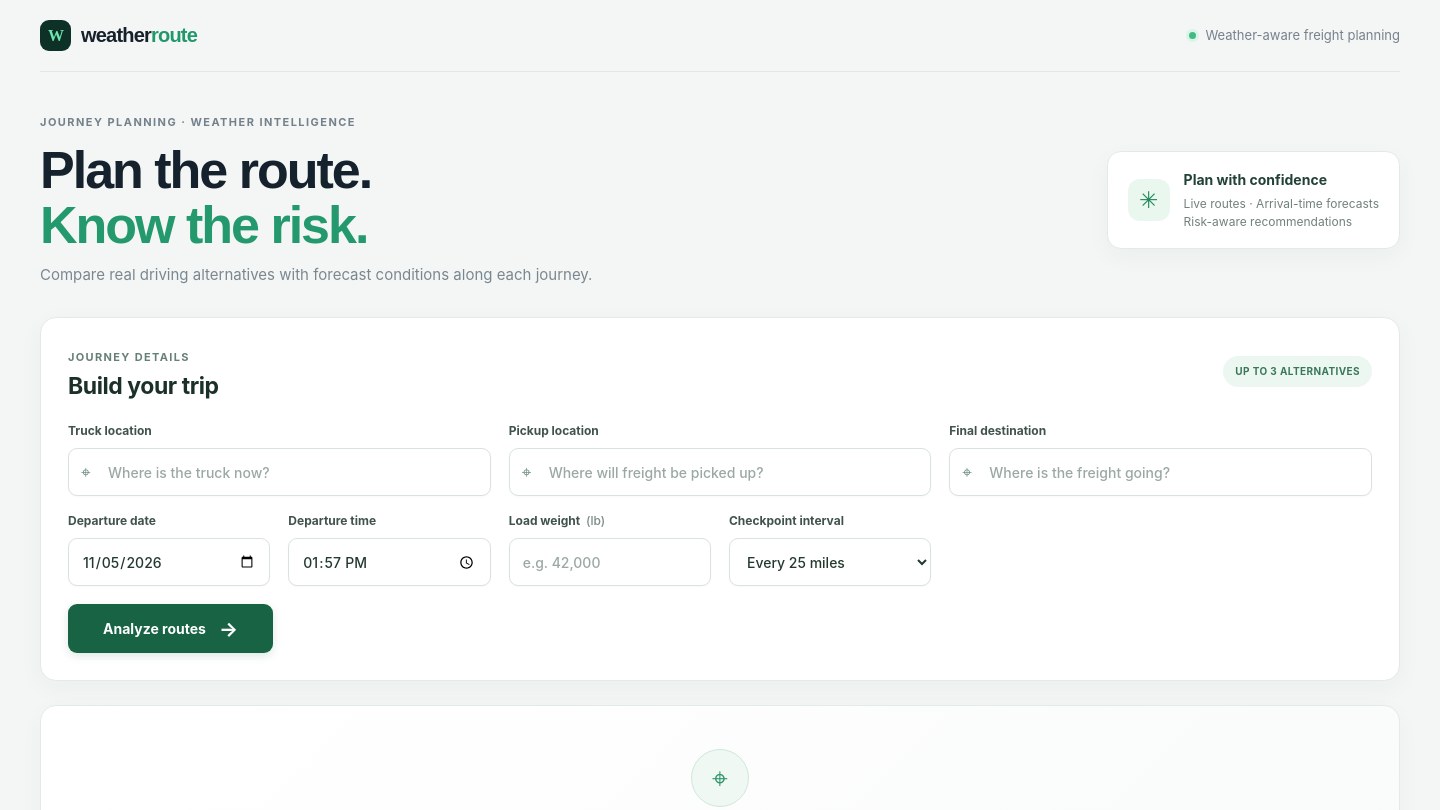
Test case: journey dashboard integration › reports backend errors without leaving a loading state
The width and height of the screenshot is (1440, 810).
Type "New York, NY" into the field labelled "Truck location".
click(279, 472); type("New York, NY")  # box [68,448,491,496]
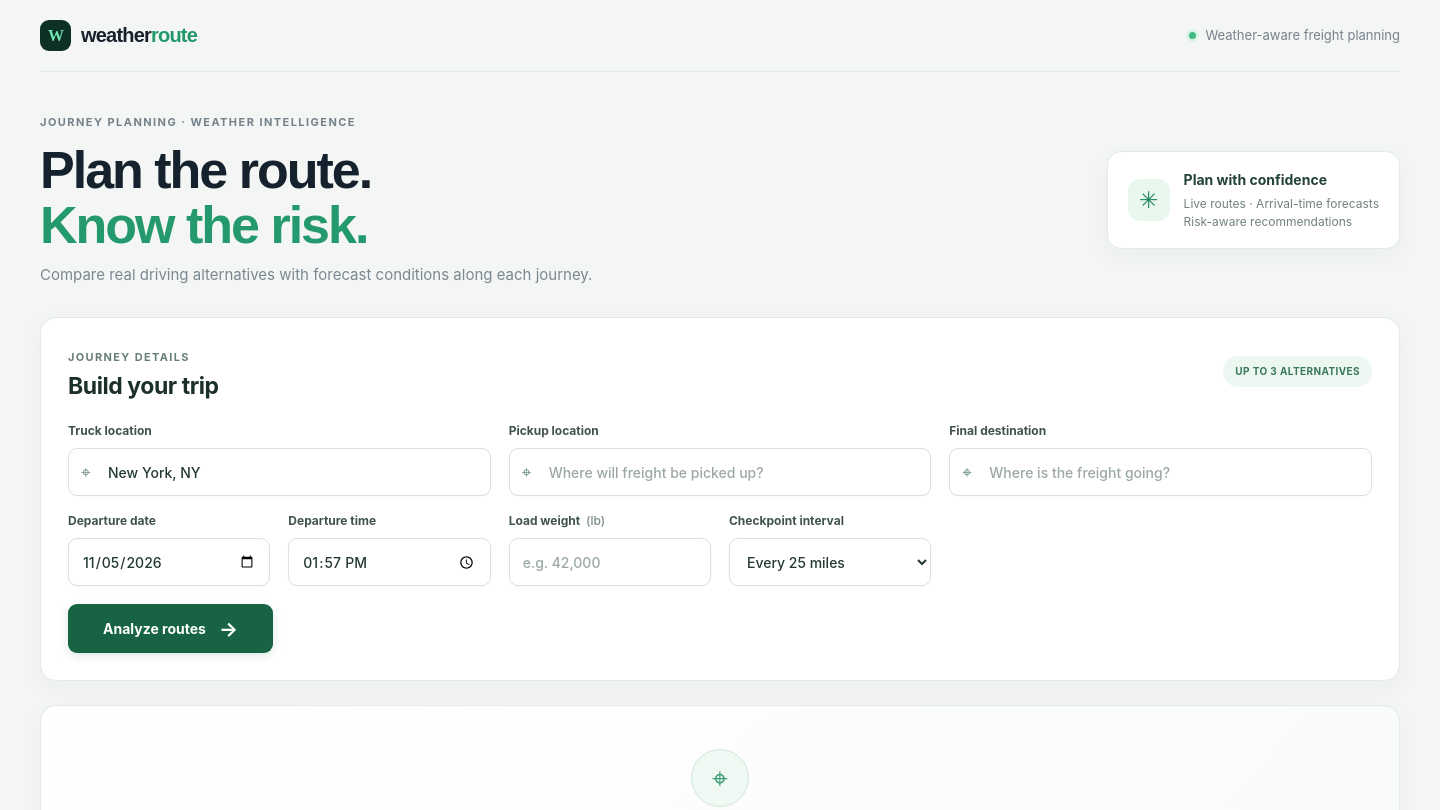
Type "Hartford, CT" into the field labelled "Pickup location".
click(720, 472); type("Hartford, CT")  # box [509,448,931,496]
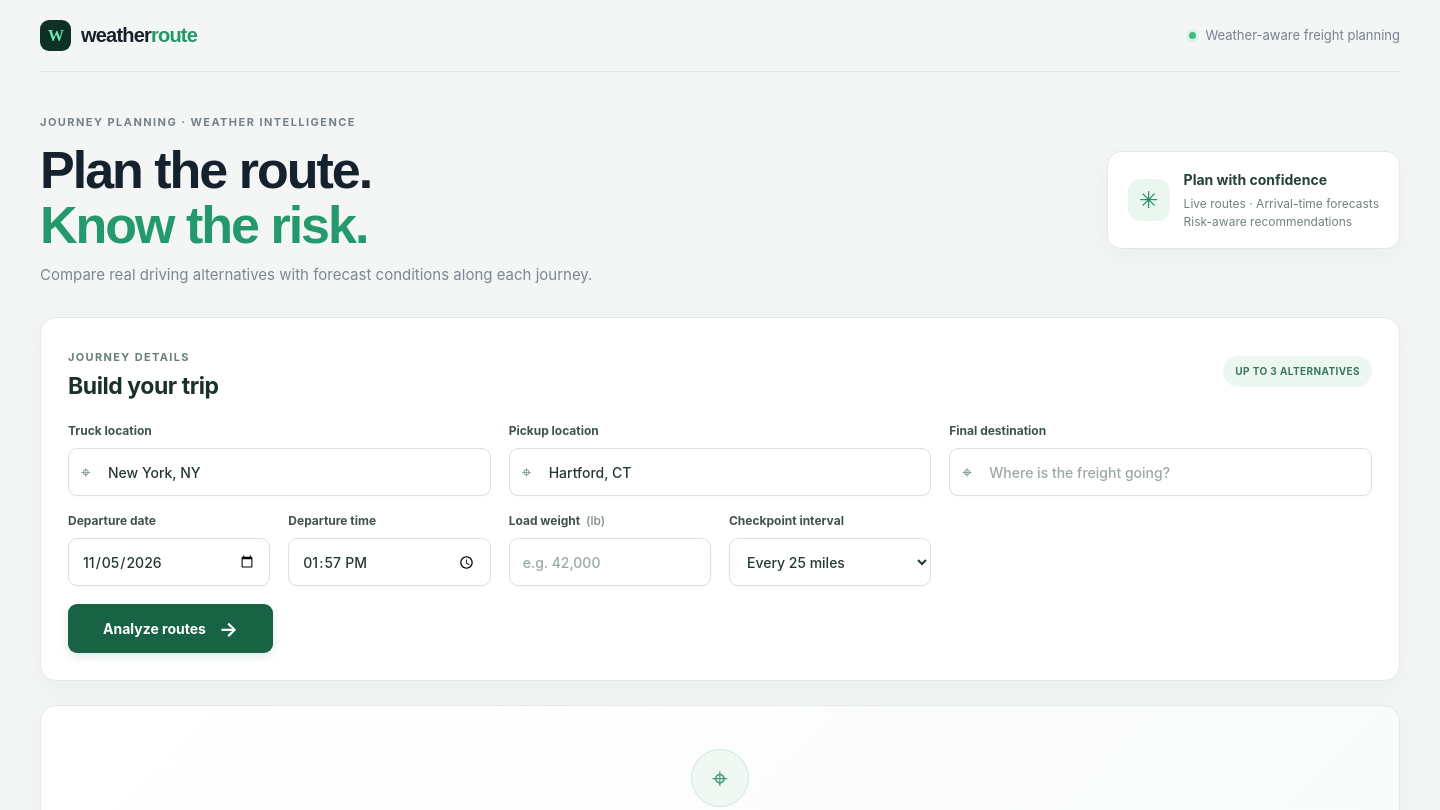
Type "Boston, MA" into the field labelled "Final destination".
click(1161, 472); type("Boston, MA")  # box [949,448,1372,496]
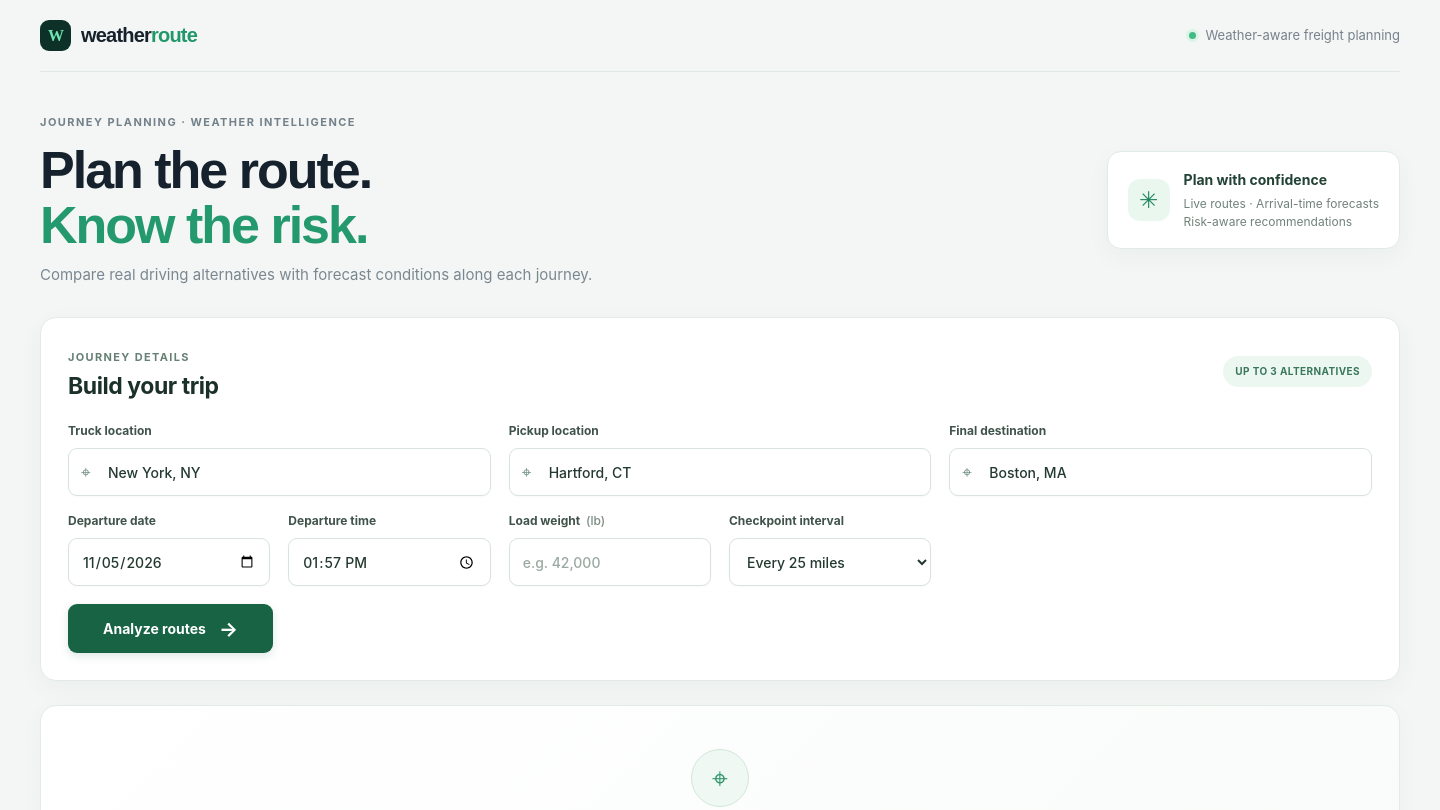
Type "42000" into the number field labelled "Load weight (lb)".
click(610, 562); type("42000")  # box [509,538,711,586]
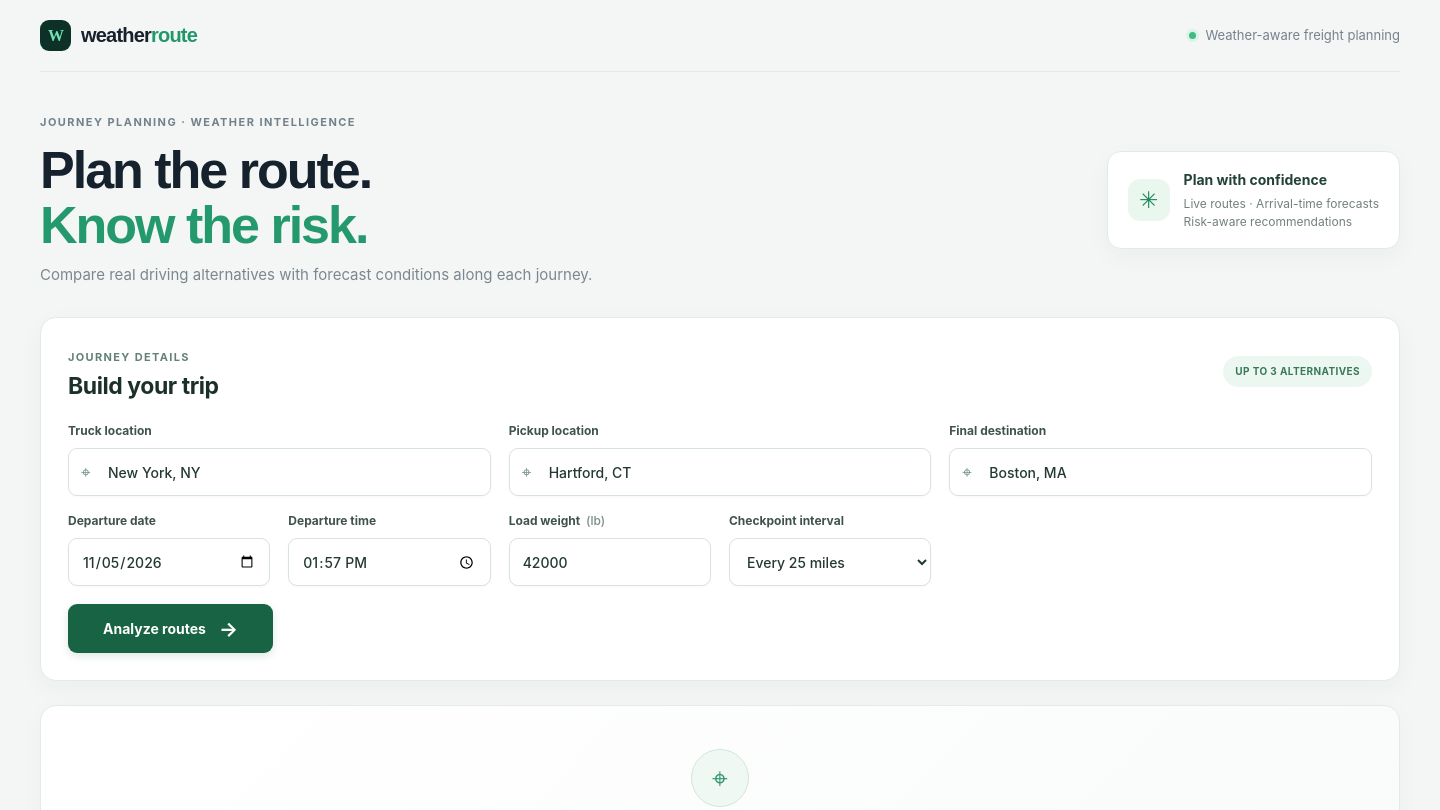
Submit the form, box [68,422,1372,654]
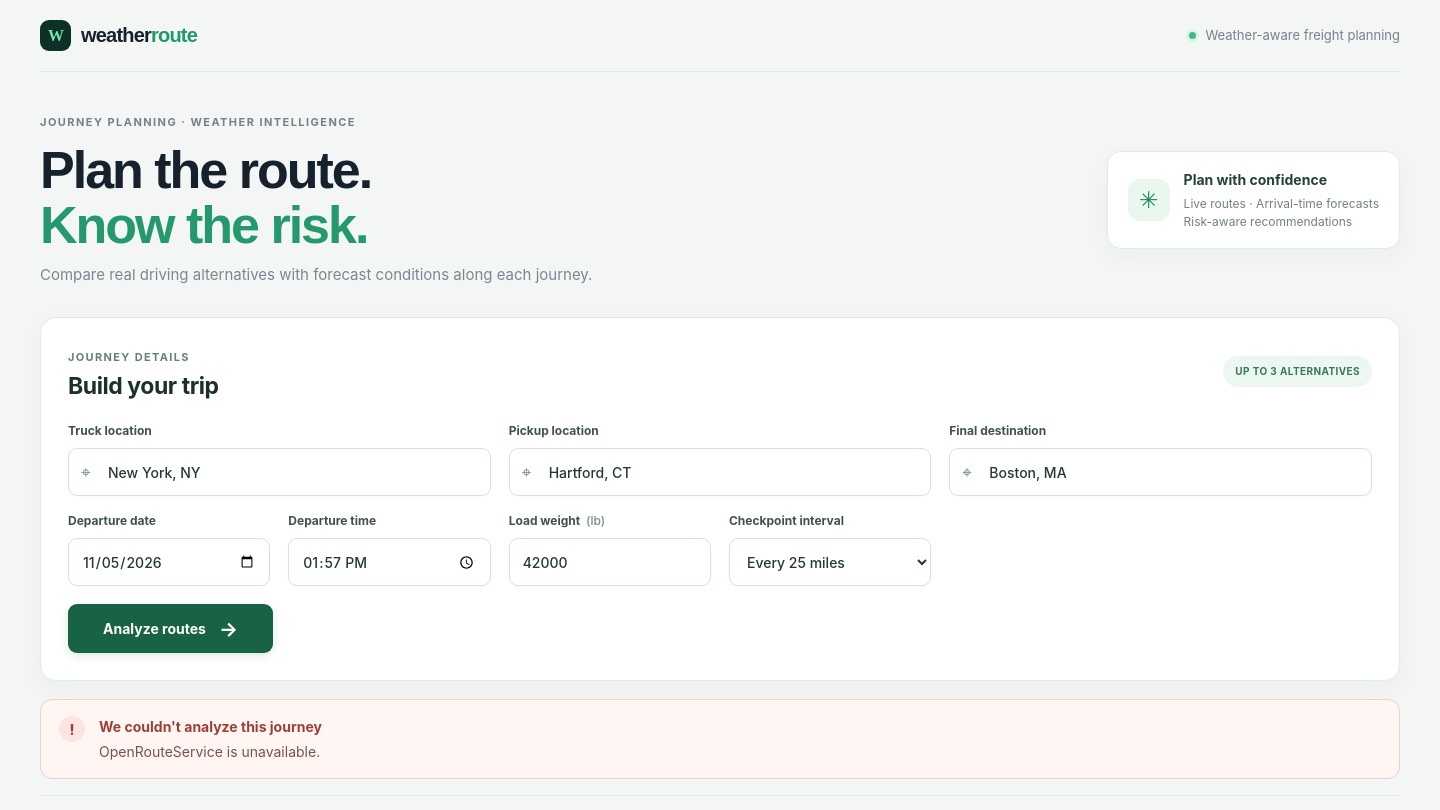
Check: the message shows "OpenRouteService is unavailable.", box [99,744,320,760]
